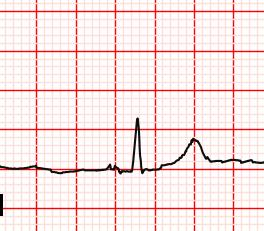LVH: (164, 136, 215, 170)
